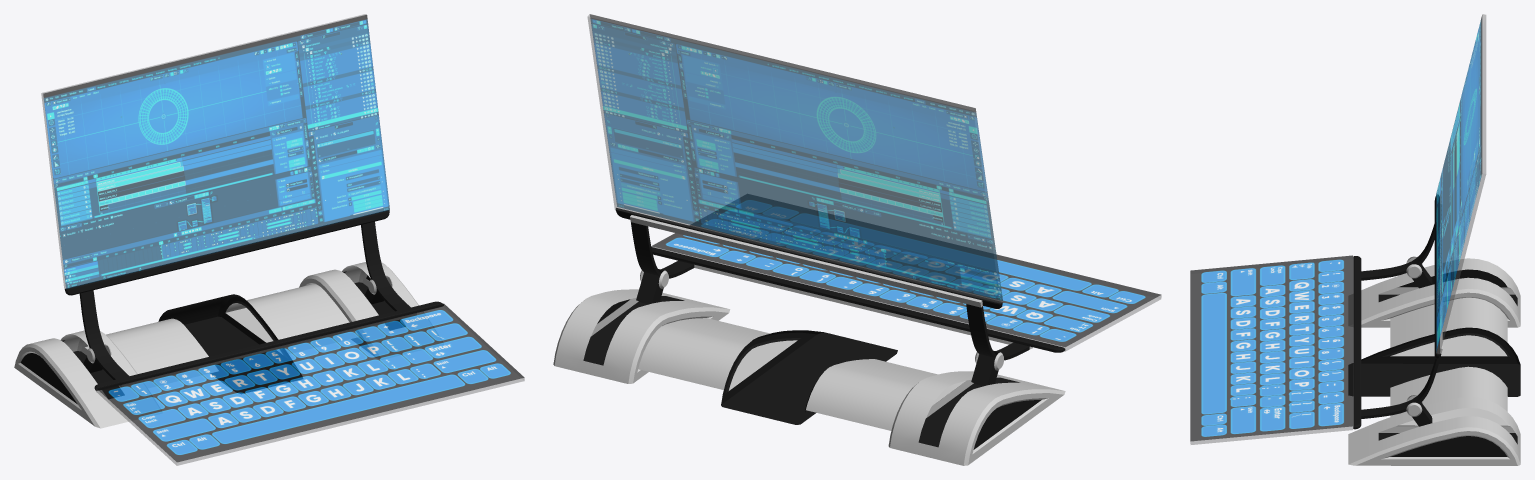
File: sceneDraco.gltf
3 renders of one model, left to right at view 1: azimuth 30°, elevation 25°; view 2: azimuth 150°, elevation 25°; view 3: azimuth 270°, elevation 25°, orthographic. The views are drawn at different scales.
Parts seen in each view (by area): view 1: Plane.001, Circle, Plane.002; view 2: Plane.001, Circle, Plane.002; view 3: Circle, Plane.002, Plane.001.
Part boxes in pixels (x1,y1,x2,y2): Plane.001: (41,14,389,288); Circle: (14,210,443,428); Plane.002: (96,303,524,465); Plane.001: (587,14,1002,303); Circle: (553,208,1065,465); Plane.002: (651,194,1161,351); Circle: (1348,194,1520,465); Plane.002: (1190,255,1352,444); Plane.001: (1436,14,1485,353).
Size of the model in its own units: 4.95 by 3.86 by 4.04.
Materials: 4 (1 with a texture image).
